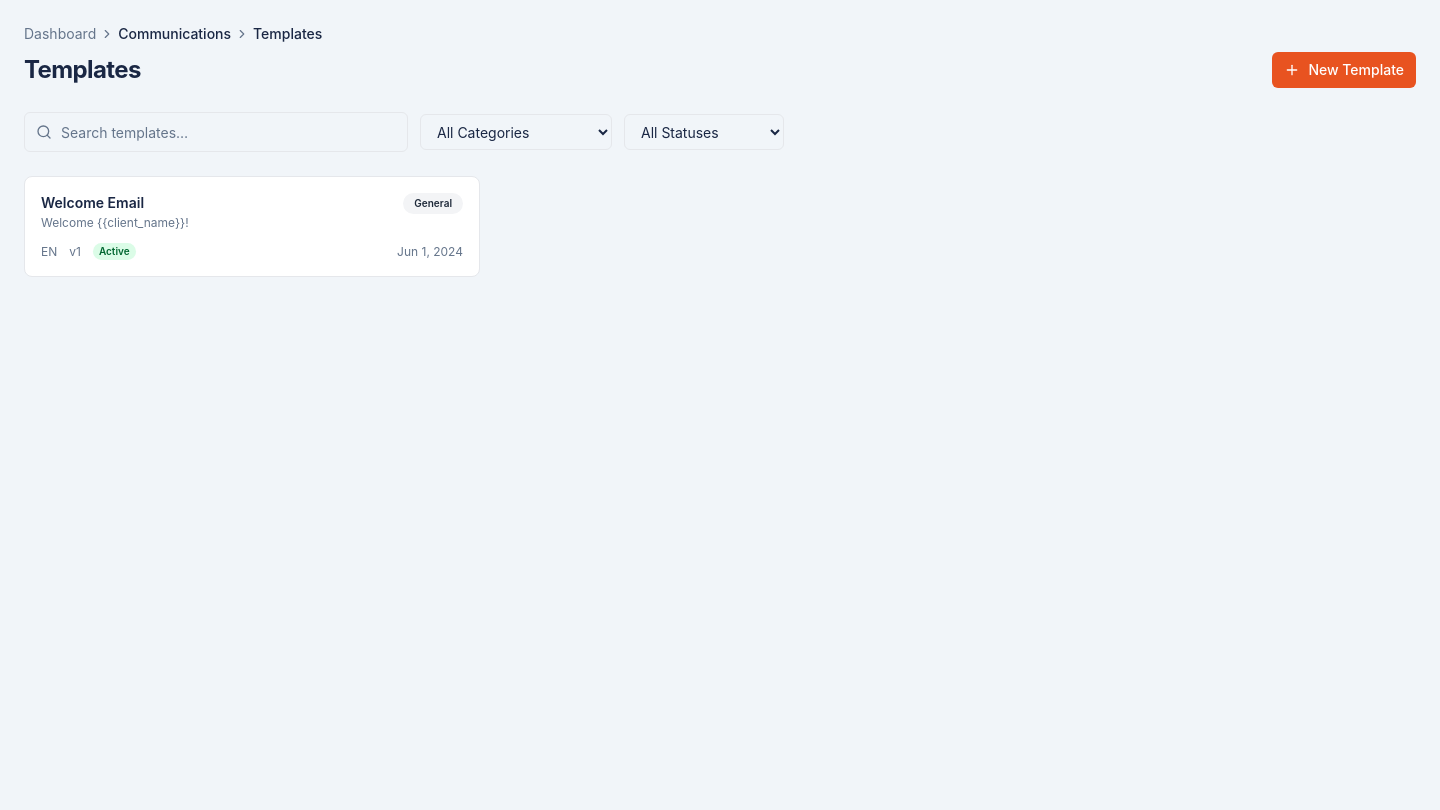
TemplatesView › shows preview pane when clicking Preview button
Click the heading "Welcome Email". click: (93, 202)
box: left=41, top=194, right=144, bottom=211
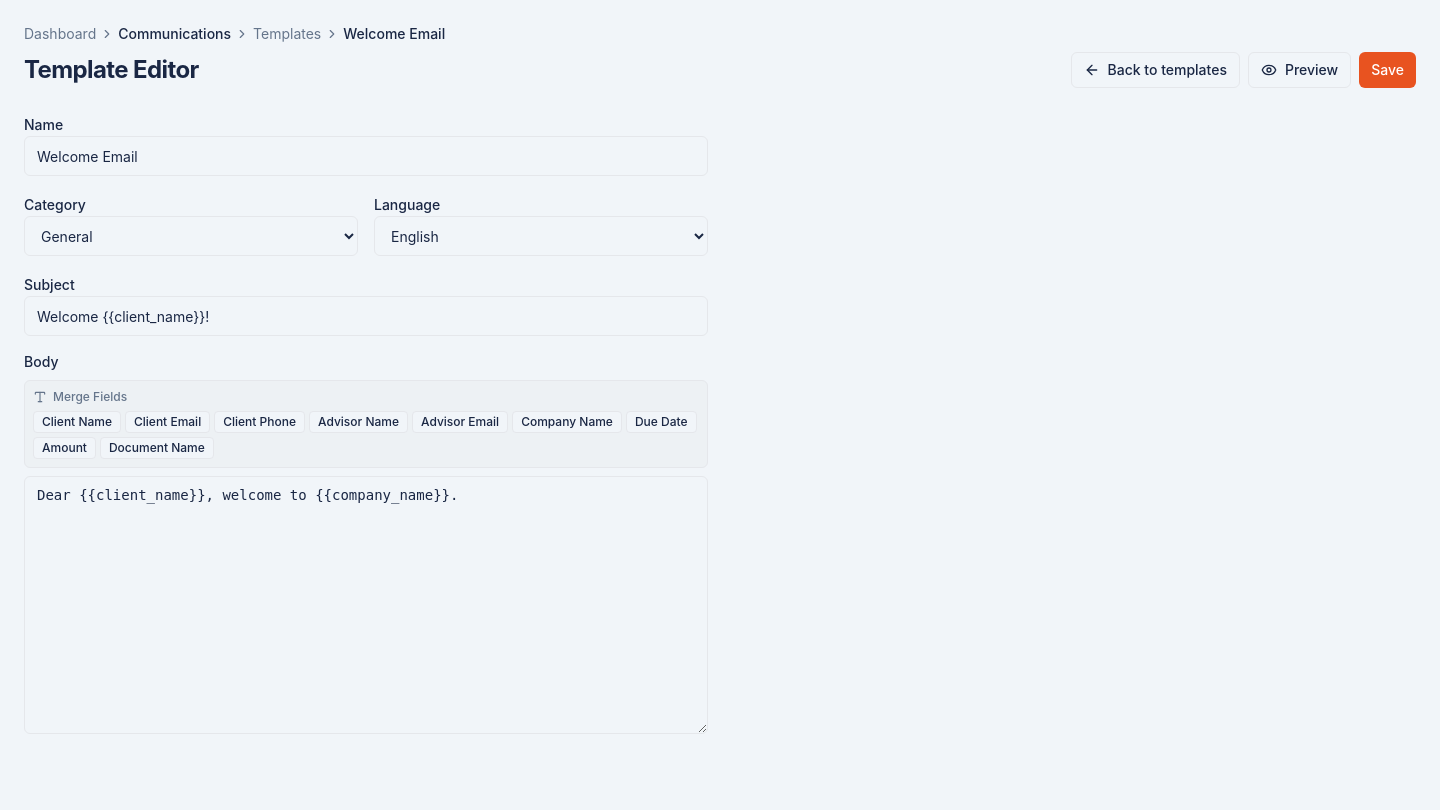
Click the button "Preview". click: (1300, 70)
box: left=1248, top=52, right=1351, bottom=88
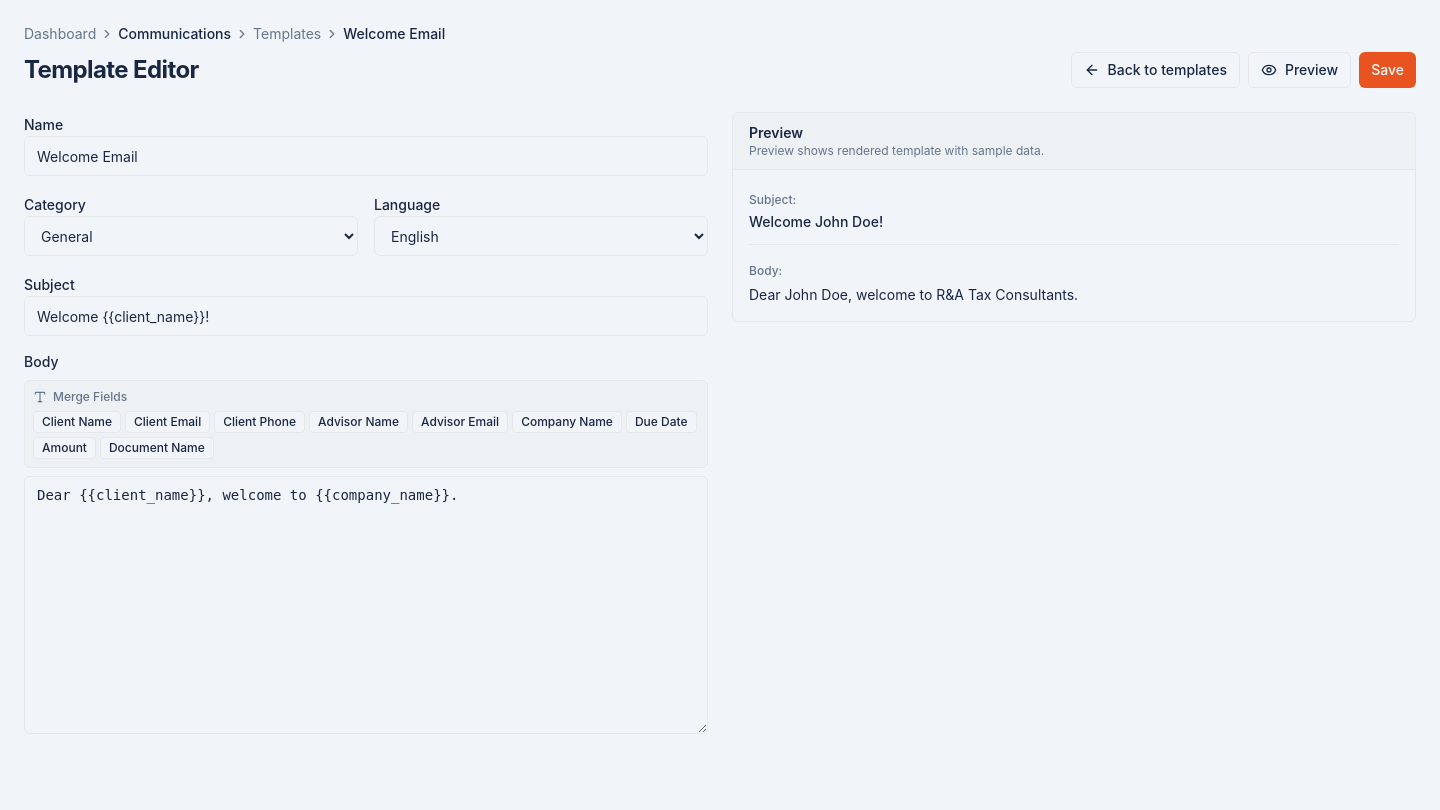
Check: the text "Welcome John Doe!" is shown, box left=749, top=213, right=883, bottom=230
Check: the text "Dear John Doe, welcome to R&A Tax Consultants." is shown, box left=749, top=286, right=1078, bottom=303
